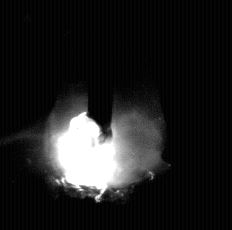arame: (88, 0, 114, 144)
poca: (43, 0, 163, 230)
